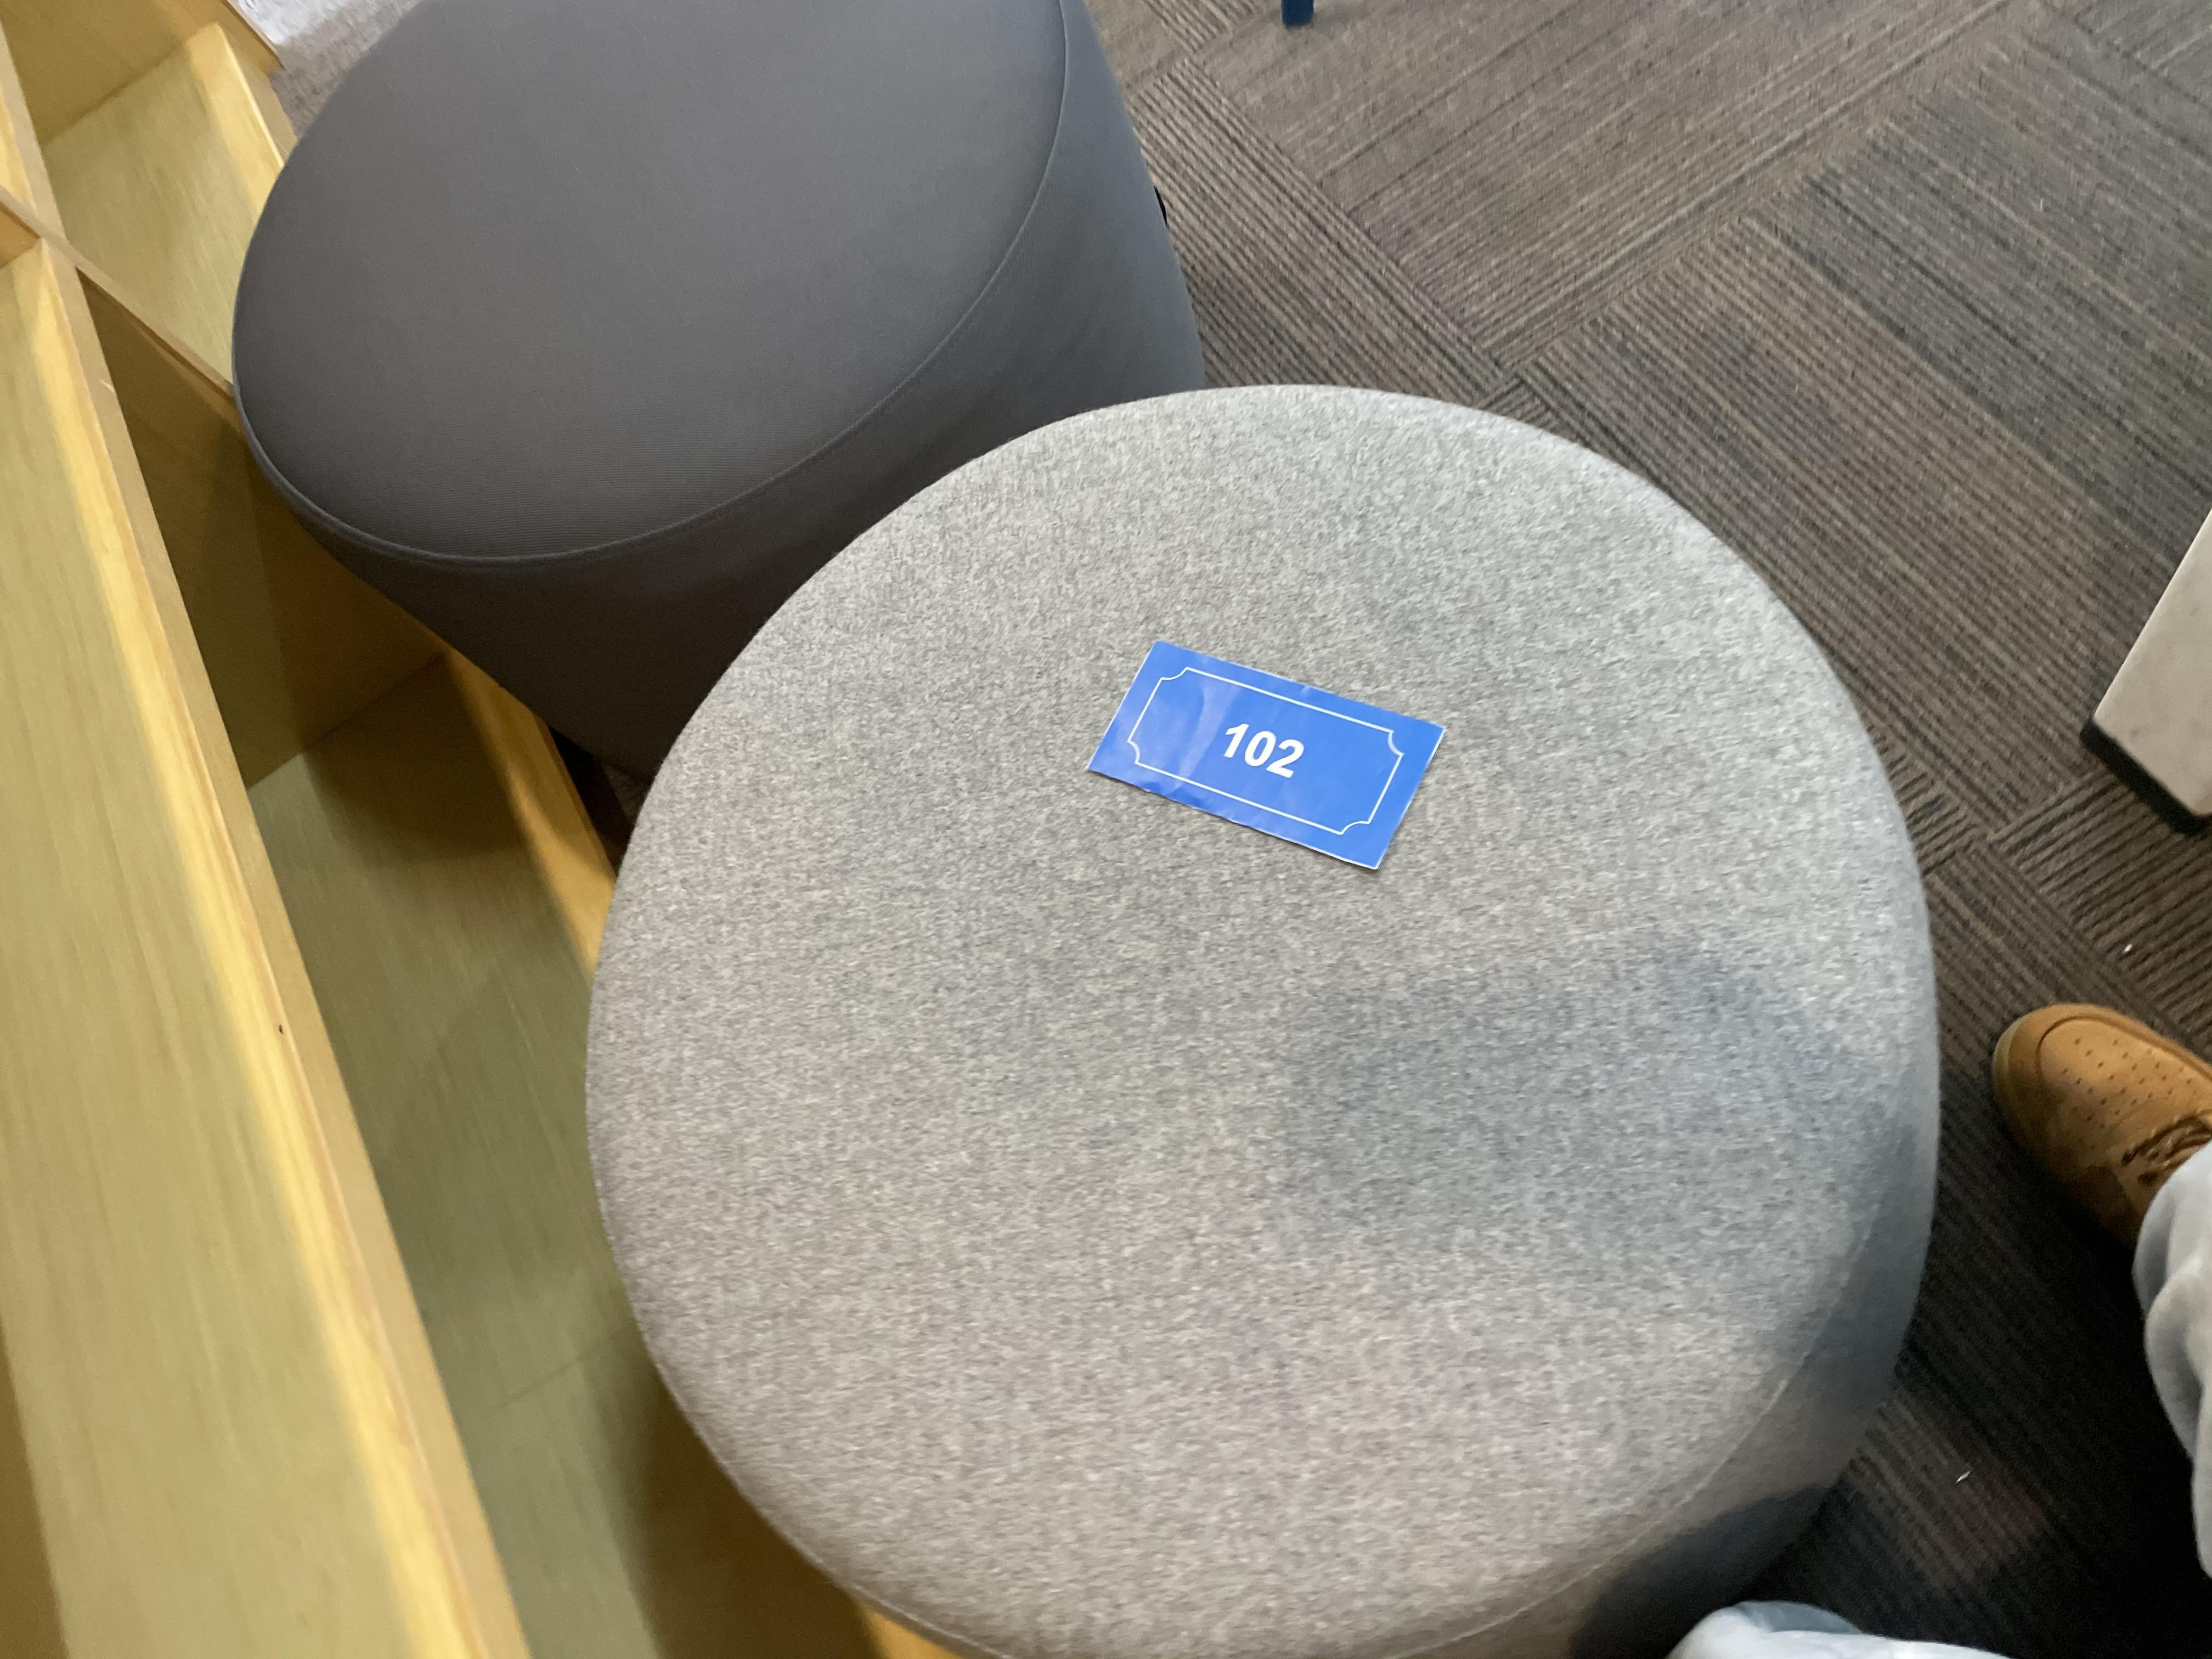Card: (1073, 612, 1461, 889)
